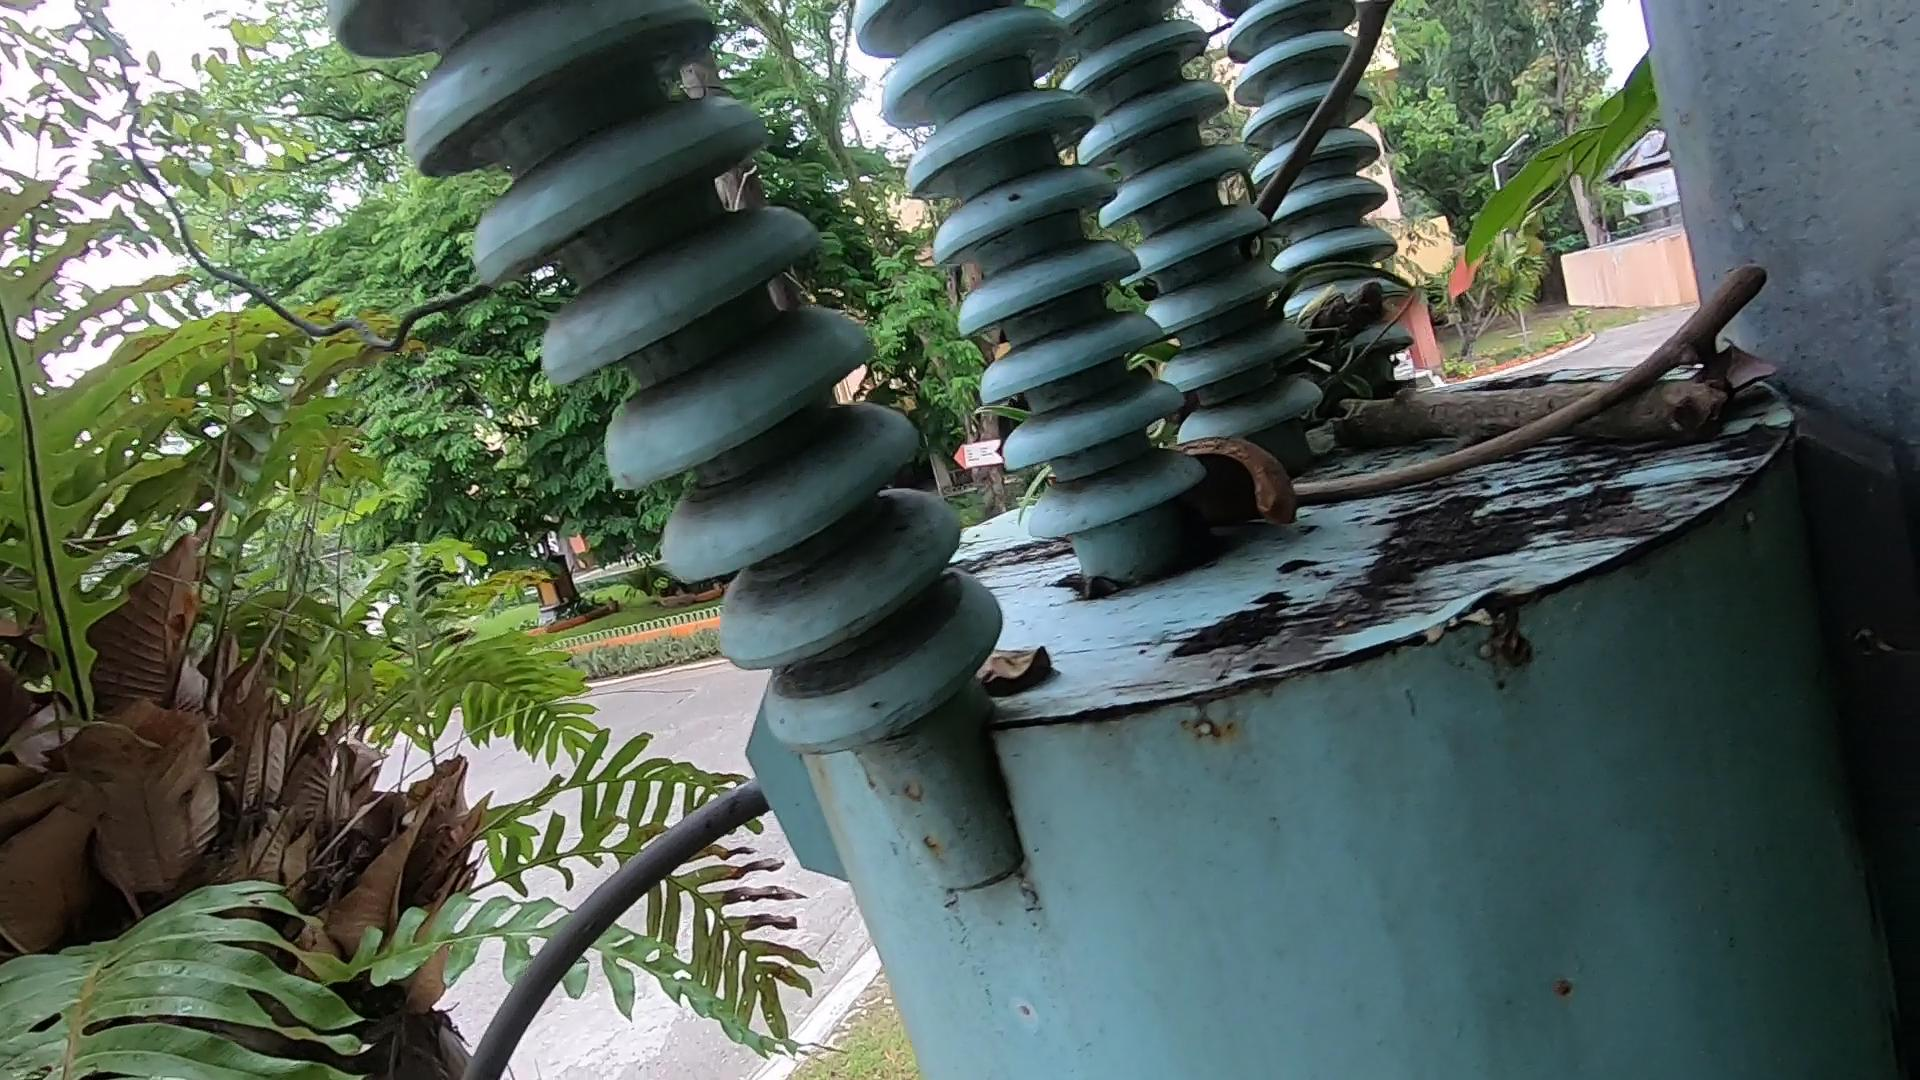branch with leaves: (1237, 299, 1695, 454)
leaf: (975, 617, 1073, 736), (1698, 319, 1782, 413)
mahogany fruit: (1168, 401, 1298, 560)
tree branch: (1241, 274, 1762, 542), (1240, 1, 1364, 257)
